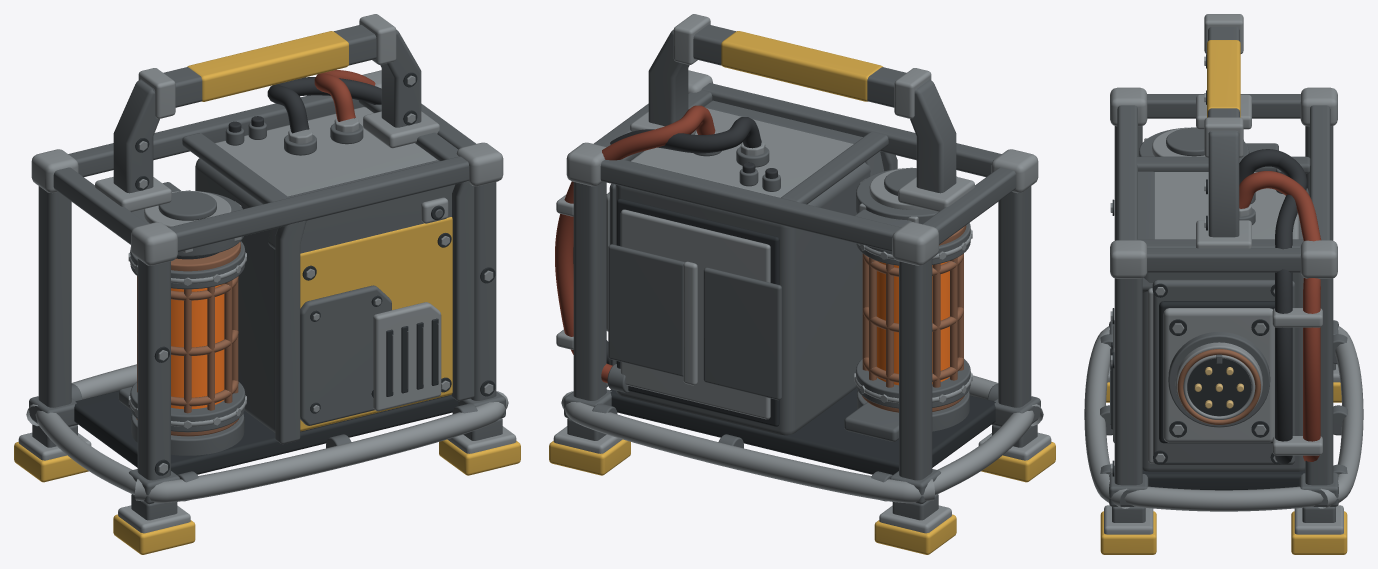
Rendered from CellBattery.fbx.
3 renders of one model, left to right at view 1: azimuth 30°, elevation 25°; view 2: azimuth 150°, elevation 25°; view 3: azimuth 270°, elevation 25°, orthographic. The views are drawn at different scales.
Visible parts, largest first — view 1: Ochre front armor, Front service access hatch, Lower wraparound bumper, Lower equipment tray, Main generator chassis, Top service lid, Upper cross rail, Vertical armor pillar.001, Vertical armor pillar, Handle ochre grip, Front vertical armored strap, Vent housing (+42 smaller); view 2: Main generator chassis, Lower equipment tray, Rear access cover, Rear split panels, Rear split panels.001, Lower wraparound bumper.001, Upper cross rail.001, Vertical armor pillar.001, Vertical armor pillar.003, Vertical armor pillar, Top service lid, Handle ochre grip (+39 smaller); view 3: Right side inset plate, Socket mounting plate, Vertical armor pillar.002, Flexible power hose, Flexible power hose.001, Top service lid, Main generator chassis, Side base rail.001, Upper side rail.001, Angled carry handle upright.001, Lower wraparound bumper.001, Lower wraparound bumper (+40 smaller).
Boxes of the visible parts, x1,y1,x2,y2 form: Ochre front armor: (300, 217, 452, 431); Front service access hatch: (300, 285, 391, 425); Lower wraparound bumper: (135, 391, 508, 503); Lower equipment tray: (74, 391, 458, 474); Main generator chassis: (195, 158, 449, 432); Top service lid: (215, 107, 437, 196); Upper cross rail: (168, 156, 469, 251); Vertical armor pillar.001: (38, 186, 71, 407); Vertical armor pillar: (137, 258, 170, 480); Handle ochre grip: (187, 31, 348, 101); Front vertical armored strap: (275, 220, 306, 444); Vent housing: (373, 302, 441, 411); Main generator chassis: (615, 162, 870, 435); Lower equipment tray: (610, 388, 995, 474); Rear access cover: (620, 209, 770, 419); Rear split panels: (703, 267, 781, 400); Rear split panels.001: (608, 244, 684, 376); Lower wraparound bumper.001: (561, 391, 934, 503); Upper cross rail.001: (600, 159, 901, 251); Vertical armor pillar.001: (899, 258, 932, 480); Vertical armor pillar.003: (573, 181, 606, 400); Vertical armor pillar: (998, 186, 1031, 407); Top service lid: (631, 108, 853, 197); Handle ochre grip: (721, 31, 882, 101); Right side inset plate: (1152, 279, 1295, 465); Socket mounting plate: (1163, 308, 1274, 442); Vertical armor pillar.002: (1114, 278, 1142, 485); Flexible power hose: (1239, 149, 1307, 464); Flexible power hose.001: (1239, 171, 1320, 461); Top service lid: (1155, 172, 1299, 239); Main generator chassis: (1142, 188, 1309, 471); Side base rail.001: (1124, 486, 1323, 511); Upper side rail.001: (1147, 248, 1300, 272); Angled carry handle upright.001: (1208, 131, 1239, 237); Lower wraparound bumper.001: (1318, 326, 1363, 508); Lower wraparound bumper: (1084, 326, 1129, 508).
Bounding box in the file's own units: 468 × 470 × 299.
